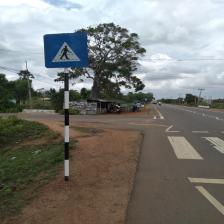blueboard: (42, 32, 89, 68)
crossing: (166, 135, 204, 160)
